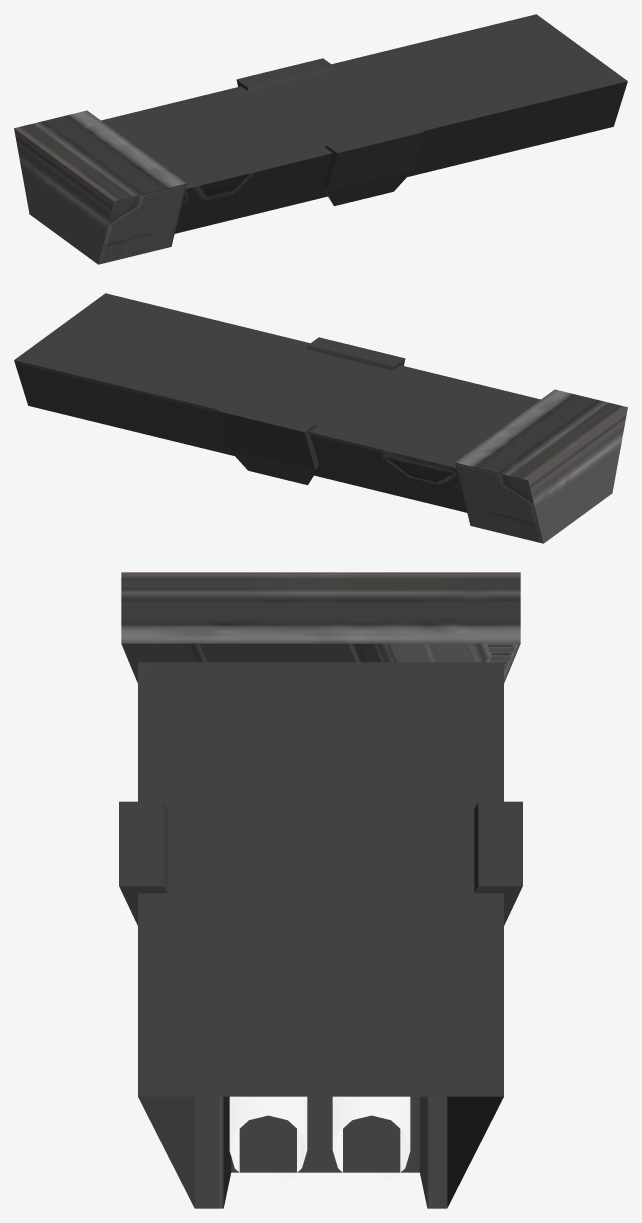
The model's file is applique-large.glb.
3 renders of one model, top to bottom at view 1: azimuth 30°, elevation 25°; view 2: azimuth 150°, elevation 25°; view 3: azimuth 270°, elevation 25°, orthographic. The views are drawn at different scales.
Parts seen in each view (by area): view 1: Prop_Light_Wide; view 2: Prop_Light_Wide; view 3: Prop_Light_Wide.
Boxes of the visible parts, x1,y1,x2,y2 form: Prop_Light_Wide: (14,14,627,264); Prop_Light_Wide: (14,293,627,543); Prop_Light_Wide: (119,572,522,1208).
Size of the model in its own units: 1.32 by 0.1819 by 0.4453.
Materials: 2 (1 with a texture image).
